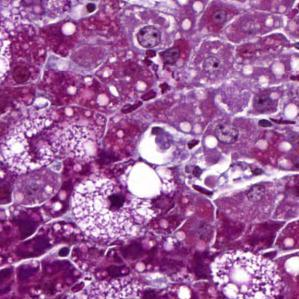ballooning: (69, 172, 155, 241), (185, 155, 272, 202), (207, 249, 286, 299)
